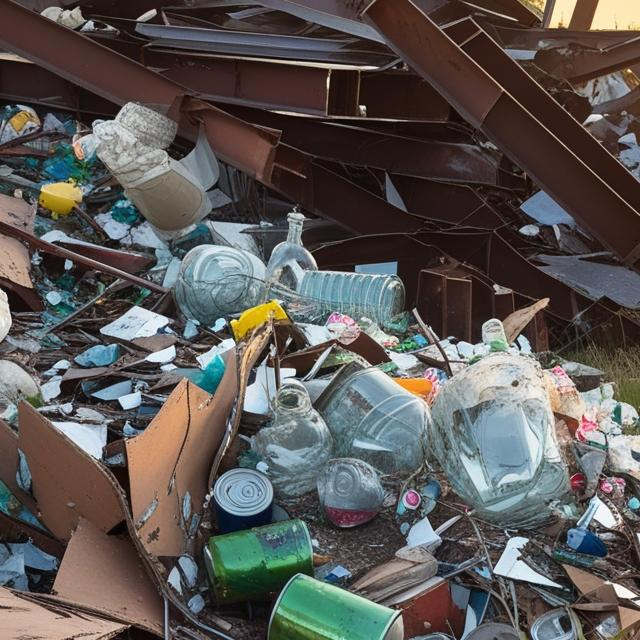metal: (275, 560, 405, 640)
